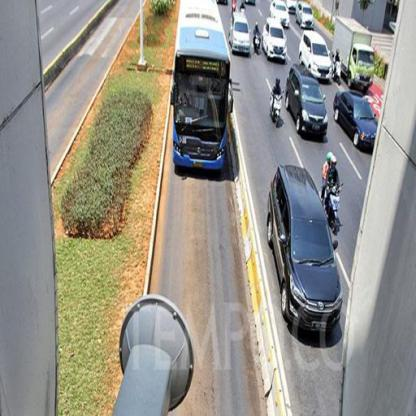bus: (171, 0, 237, 169)
car: (265, 164, 340, 336), (282, 65, 330, 140), (333, 88, 376, 151), (298, 29, 332, 81), (262, 18, 290, 62), (229, 12, 254, 59)
motorbike: (328, 180, 344, 228), (270, 91, 285, 123), (252, 32, 266, 57)
